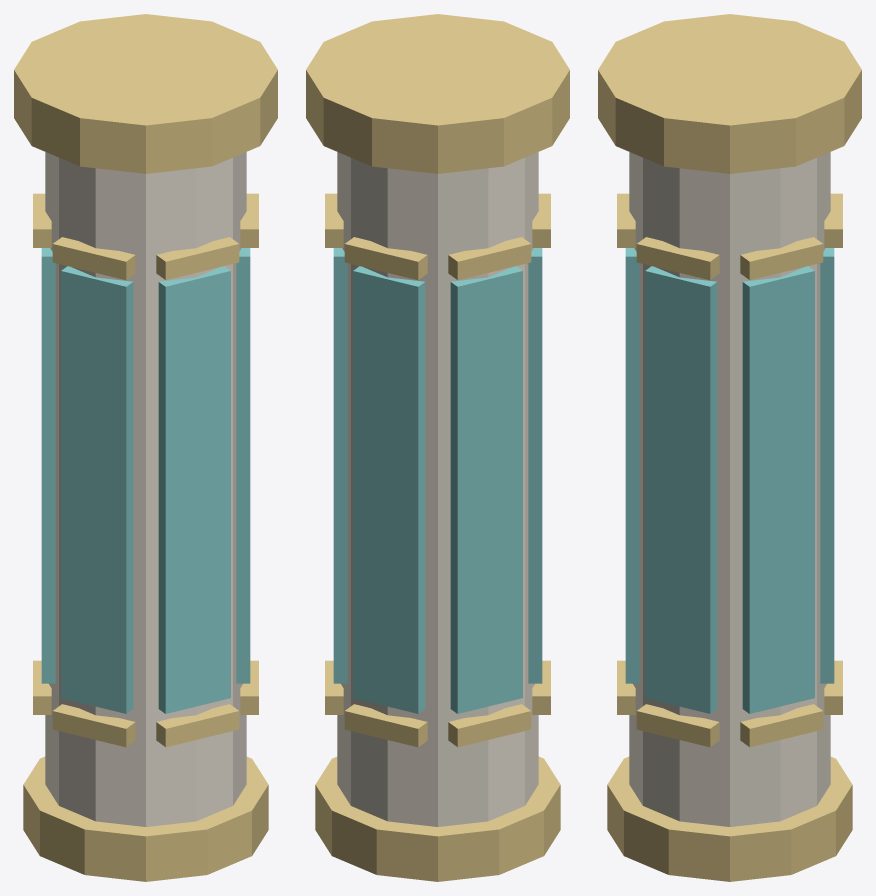
Rendered from carrusel_columna.glb.
3 renders of one model, left to right at view 1: azimuth 30°, elevation 25°; view 2: azimuth 150°, elevation 25°; view 3: azimuth 270°, elevation 25°, orthographic.
Parts seen in each view (by area): view 1: carrusel_columna; view 2: carrusel_columna; view 3: carrusel_columna.
Part boxes in pixels (bbox=[...]): carrusel_columna: bbox=[14, 14, 277, 881]; carrusel_columna: bbox=[306, 14, 569, 881]; carrusel_columna: bbox=[598, 14, 861, 881].
Bounding box in the file's own units: 0.84 × 2.67 × 0.84.
